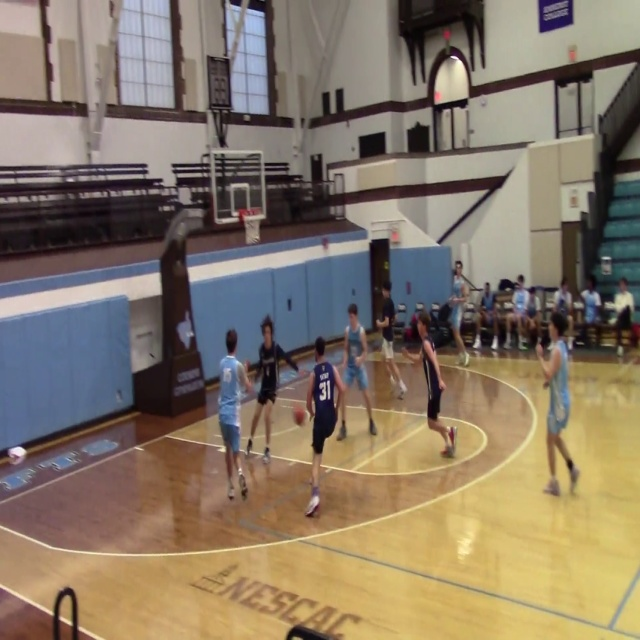Basketball: (293, 407, 306, 425), (8, 446, 26, 458)
